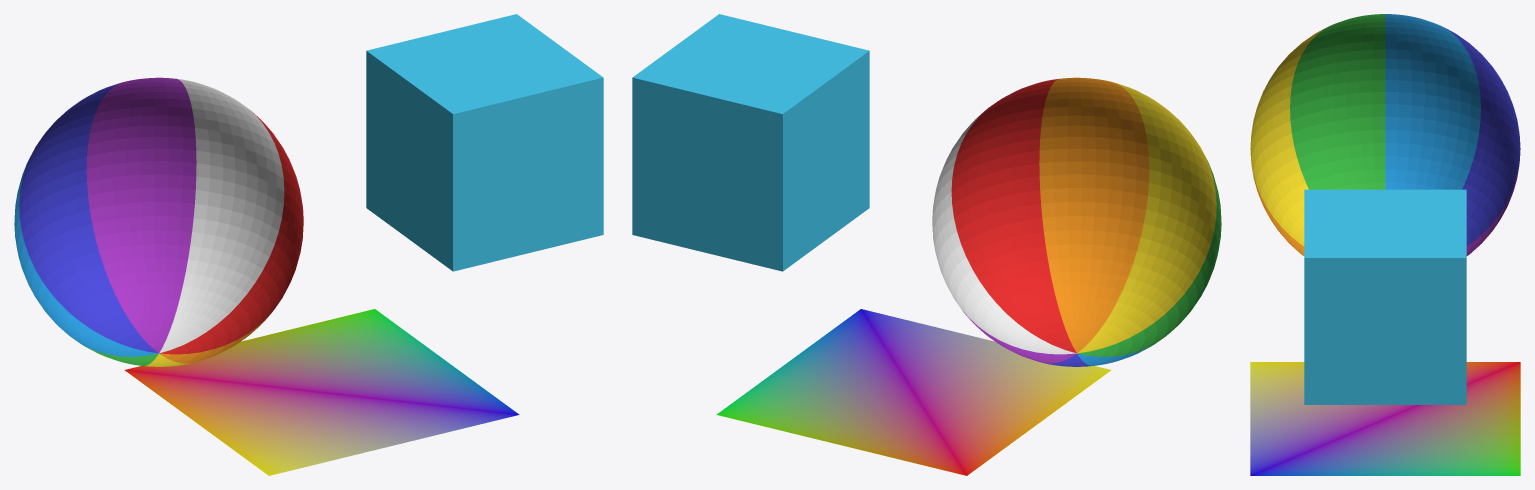
Rendered from colour-sample.glb.
The picture shows the model from 3 angles, left to right: view 1: azimuth 30°, elevation 25°; view 2: azimuth 150°, elevation 25°; view 3: azimuth 270°, elevation 25°; orthographic projection. The views are drawn at different scales.
Size of the model in its own units: 4.2 by 2.6 by 2.
2 materials, 1 textured.
